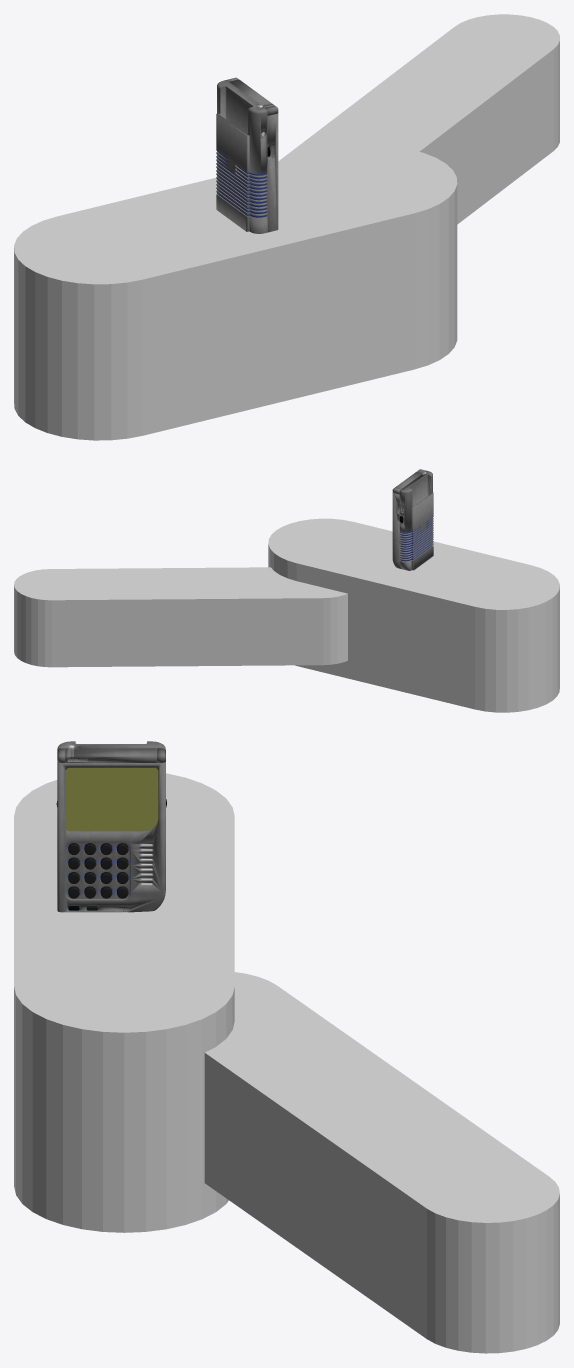
Rendered from DEVICE.glb.
3 views of the same model, one above another, from view 1: azimuth 30°, elevation 25°; view 2: azimuth 150°, elevation 25°; view 3: azimuth 270°, elevation 25° (orthographic). The views are drawn at different scales.
Visible parts, largest first — view 1: Cylinder.011, Cylinder.004, Text.001, copynoarray; view 2: Cylinder.011, Cylinder.004, Text.001, copynoarray; view 3: Cylinder.004, Cylinder.011, Text.001, Screen, Cube.020.
Part boxes in pixels (<box>): Cylinder.011: <box>14,145,457,440</box>; Cylinder.004: <box>278,14,559,224</box>; Text.001: <box>216,77,278,233</box>; copynoarray: <box>218,152,266,217</box>; Cylinder.011: <box>268,518,559,712</box>; Cylinder.004: <box>14,567,347,667</box>; Text.001: <box>392,469,433,570</box>; copynoarray: <box>400,518,432,561</box>; Cylinder.004: <box>204,972,559,1353</box>; Cylinder.011: <box>14,773,234,1232</box>; Text.001: <box>57,741,165,912</box>; Screen: <box>65,768,158,831</box>; Cube.020: <box>68,843,128,898</box>.
Size of the model in its own units: 13.75 by 5.49 by 7.58.
Materials: 9 (6 with a texture image).
